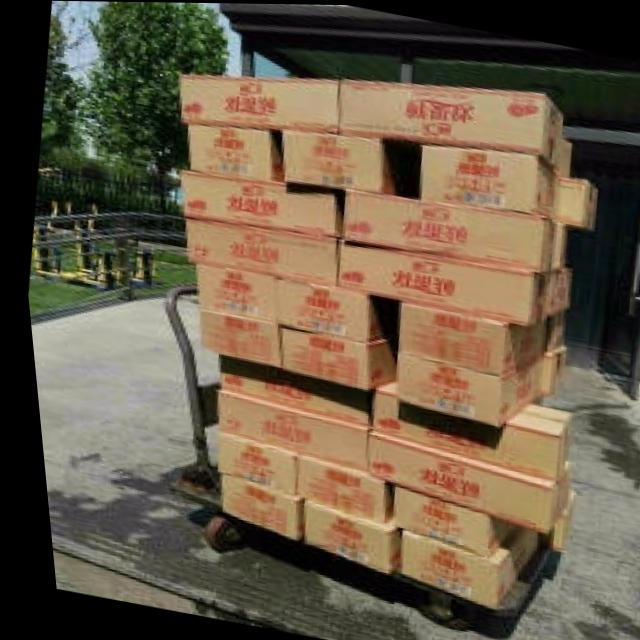box: (336, 77, 561, 171), (356, 429, 563, 531), (361, 378, 566, 480), (329, 238, 542, 324), (339, 187, 550, 269), (209, 391, 361, 472), (390, 524, 528, 610), (176, 166, 339, 236), (390, 301, 540, 375), (210, 353, 365, 424), (388, 352, 534, 425), (182, 215, 334, 285), (417, 143, 554, 219), (174, 72, 336, 132), (381, 483, 508, 557), (270, 278, 393, 343), (273, 327, 392, 391), (292, 499, 391, 574), (277, 129, 393, 193), (286, 455, 385, 523), (209, 474, 294, 541), (185, 124, 280, 180), (207, 431, 288, 493), (190, 263, 270, 322), (190, 310, 274, 366), (545, 175, 596, 232), (530, 347, 559, 394), (541, 270, 564, 312), (537, 312, 560, 349), (548, 220, 565, 269)
